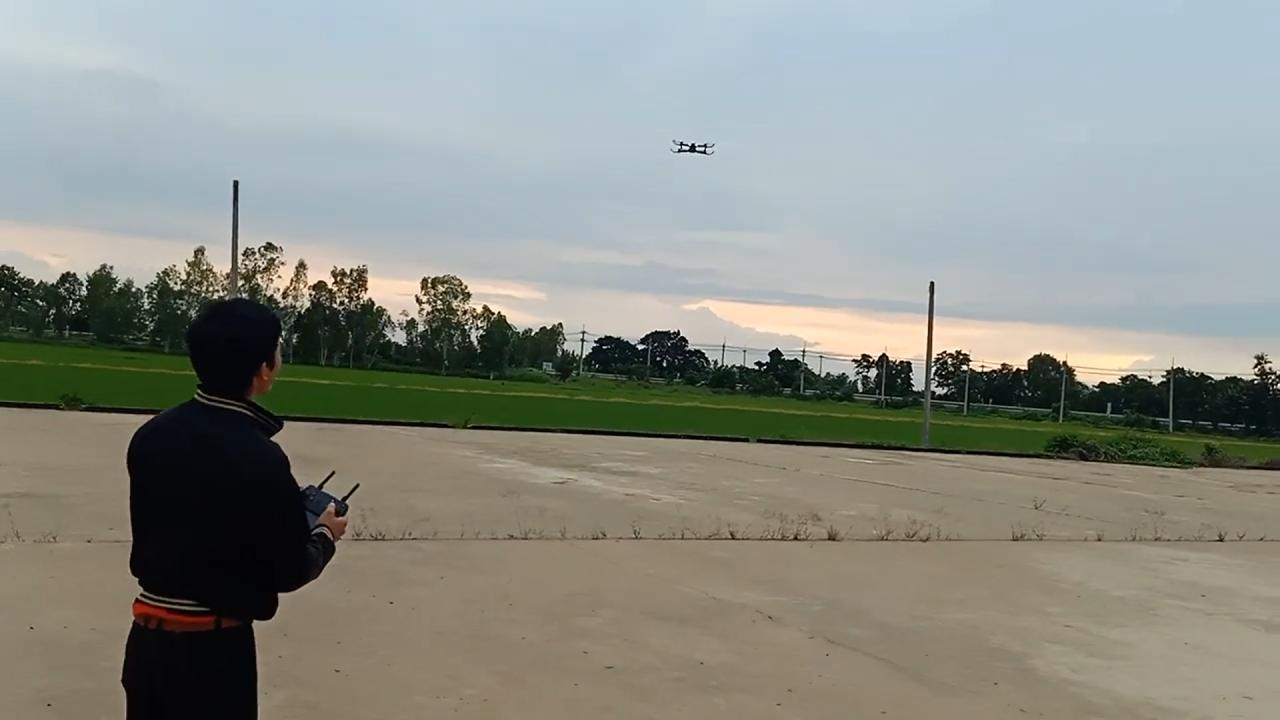Drone: (658, 126, 726, 169)
